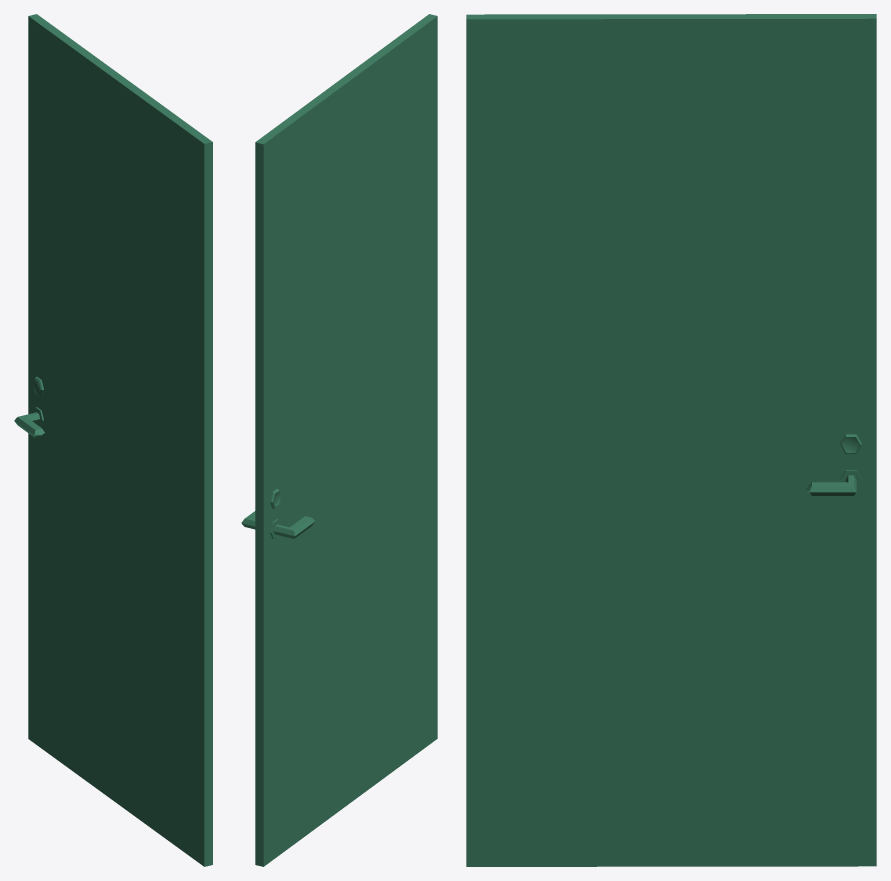
Rendered from SW_corridor__R_lobby_R_Aula_Ovi_029.FBX.
3 views of the same model, side by side, from view 1: azimuth 30°, elevation 25°; view 2: azimuth 150°, elevation 25°; view 3: azimuth 270°, elevation 25° (orthographic). The views are drawn at different scales.
Visible parts, largest first — view 1: SW_corridor__R_lobby_R_Aula_Ovi_029; view 2: SW_corridor__R_lobby_R_Aula_Ovi_029; view 3: SW_corridor__R_lobby_R_Aula_Ovi_029.
Part boxes in pixels (left/top/right/bottom): SW_corridor__R_lobby_R_Aula_Ovi_029: left=14, top=14, right=212, bottom=866; SW_corridor__R_lobby_R_Aula_Ovi_029: left=241, top=14, right=437, bottom=866; SW_corridor__R_lobby_R_Aula_Ovi_029: left=466, top=14, right=876, bottom=866.
Size of the model in its own units: 15.99 by 90 by 205.
